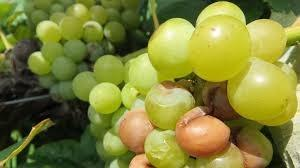Grape Rotten: (23, 0, 299, 168)
